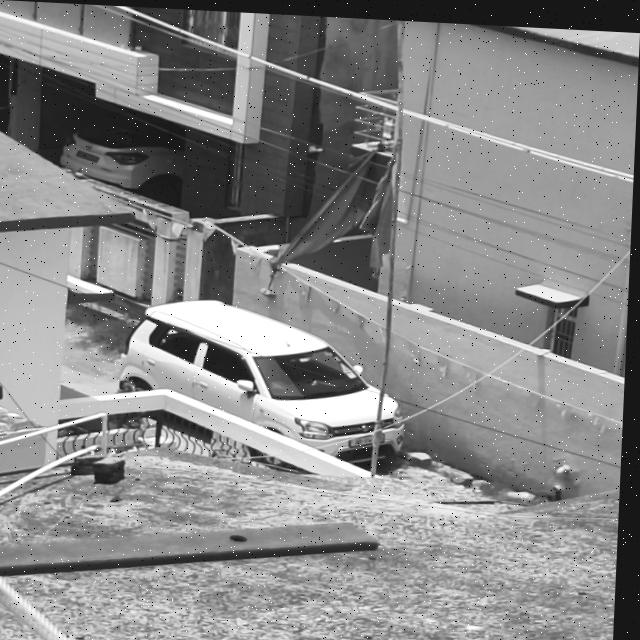car: (113, 281, 433, 475), (43, 99, 213, 209)
